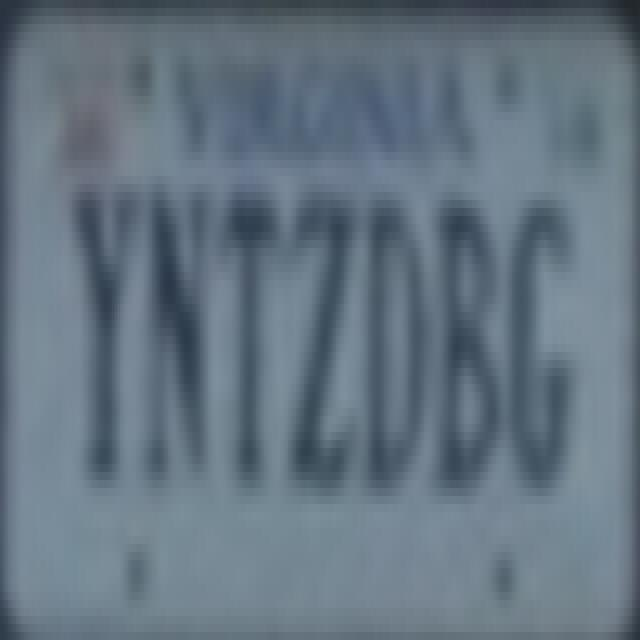licenseplate: (4, 0, 637, 640)
